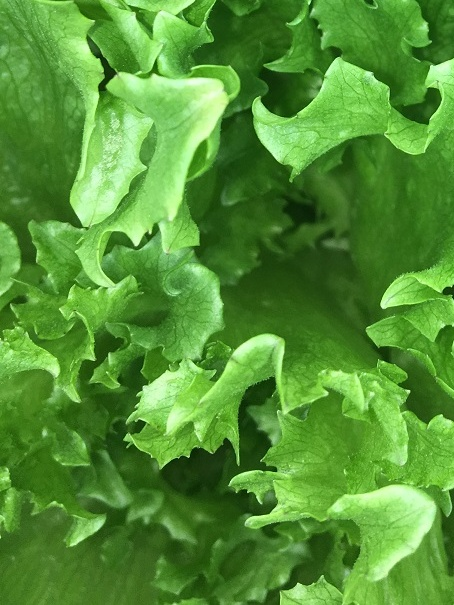tipburn: (159, 243, 176, 261)
